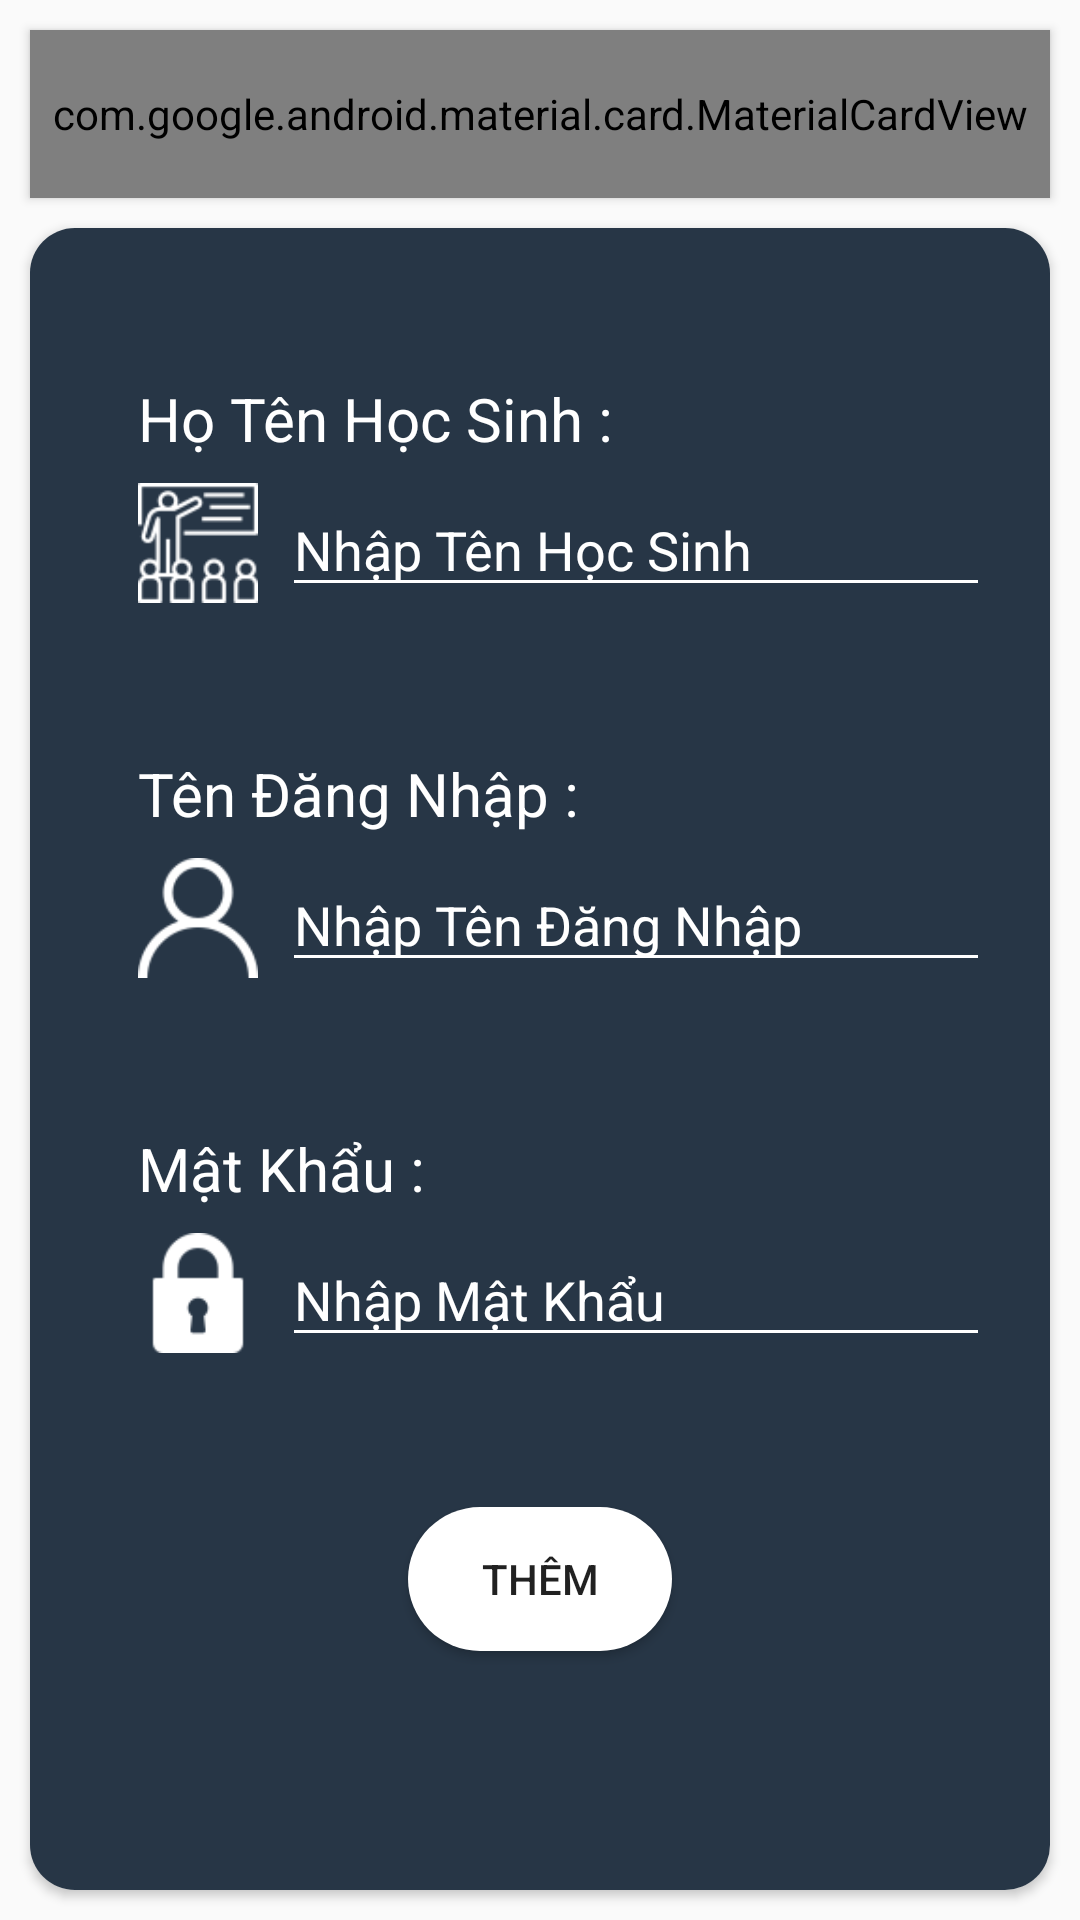

Point at icon controls on the screen. Image size 1080×1920, points as (x,y).
education: (198,543)
lock: (198,1293)
user: (198,918)
